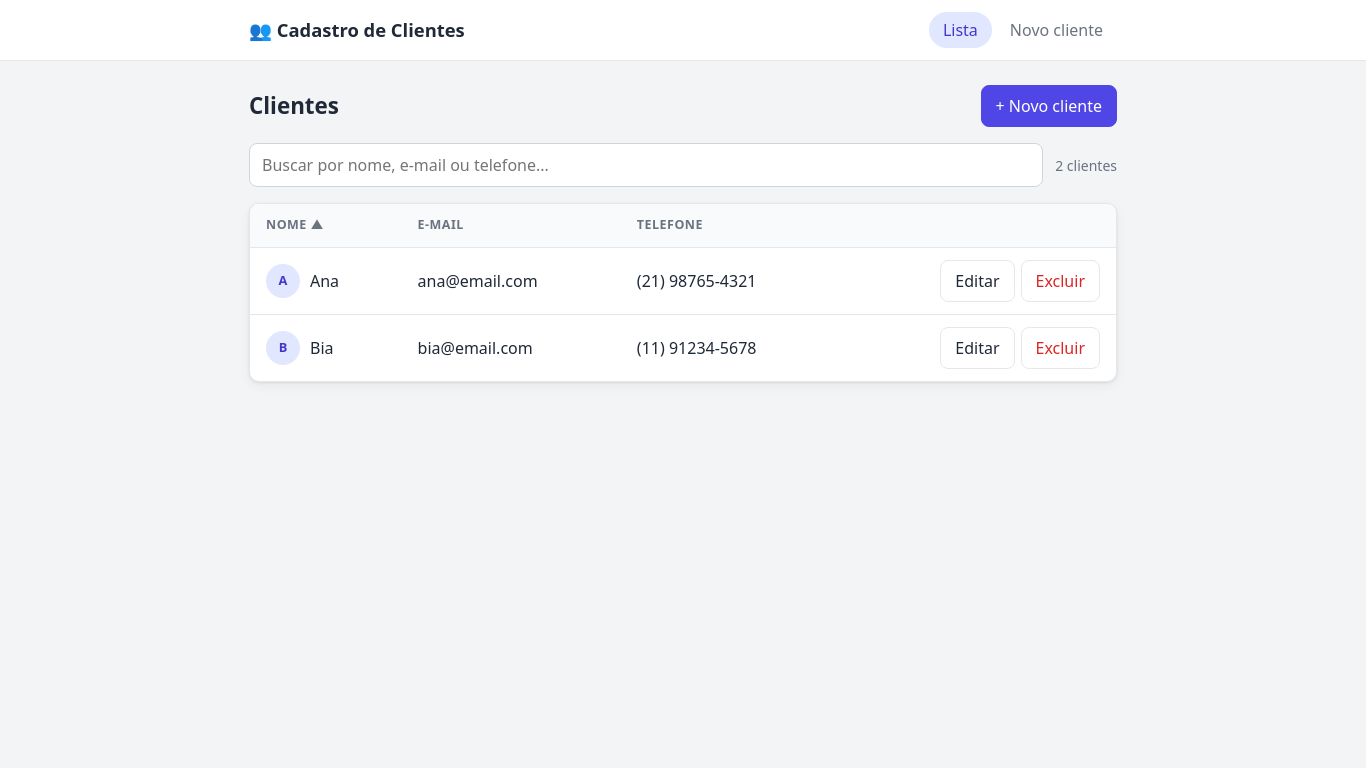
Edição e exclusão › exclui pelo modal de confirmação
The width and height of the screenshot is (1366, 768).
Click the button "Excluir" in the row of "ana@email.com".
click(1061, 281)  # box [1021,260,1101,302]
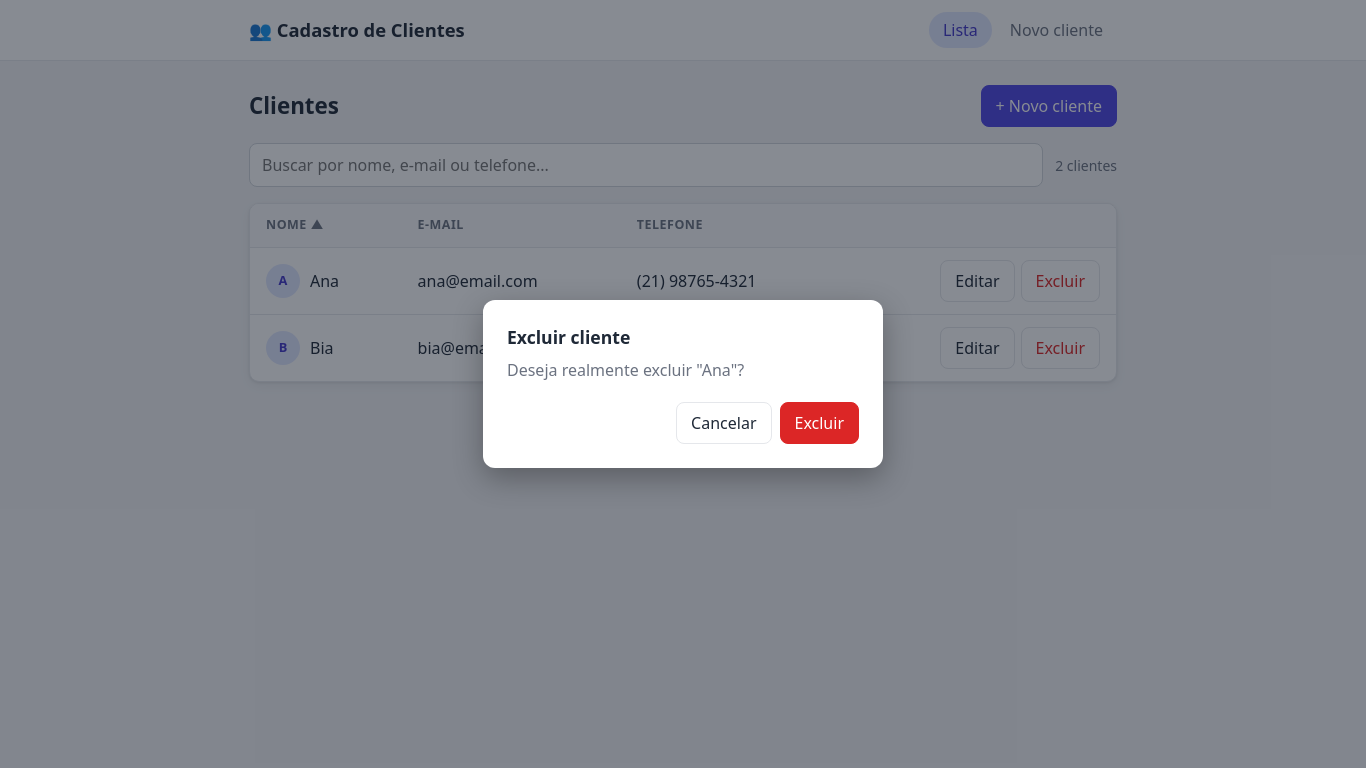
expect the text "Deseja realmente excluir \"Ana\"?" is shown: met, box [507,359,744,381]
Click the button "Excluir".
click(820, 423)  # box [780,402,860,444]
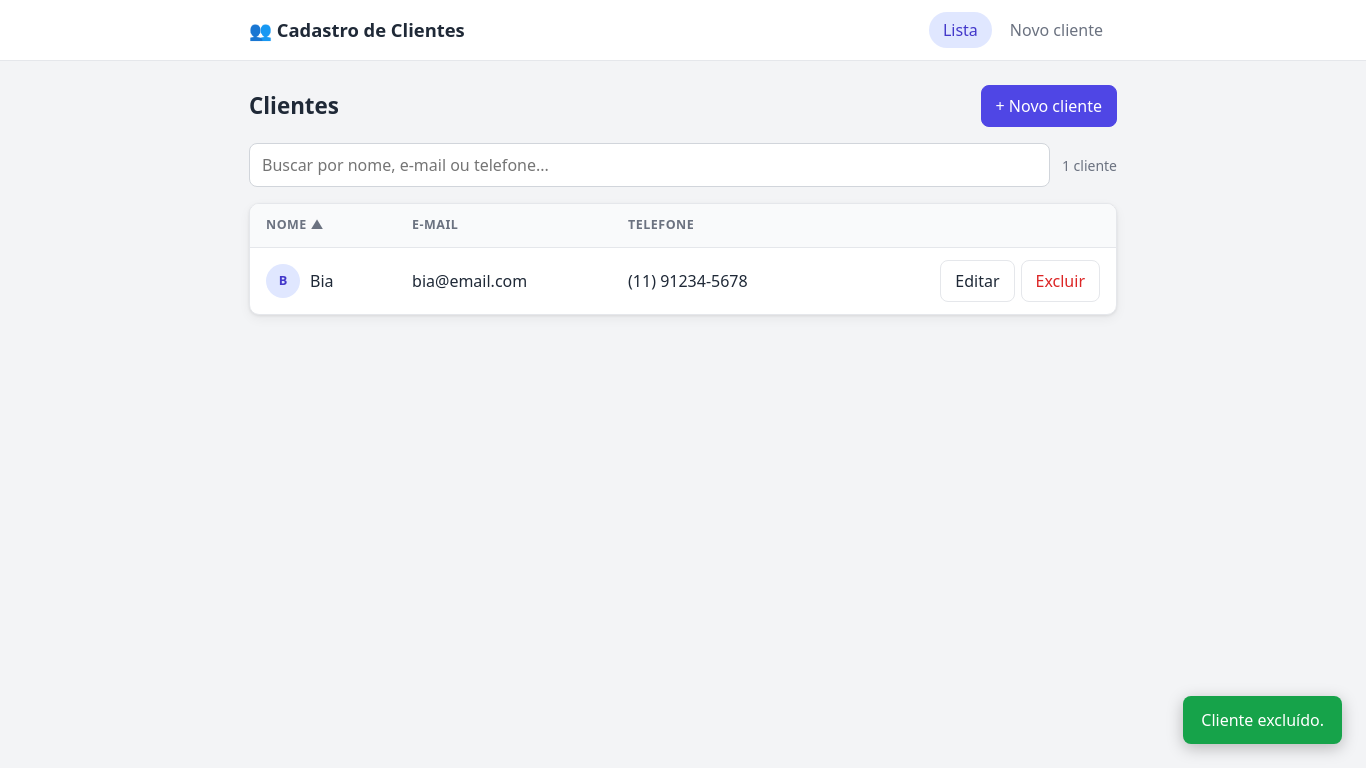
expect the text "Cliente excluído." is shown: met, box [1183,696,1342,744]
expect the text "Ana" is gone: met
